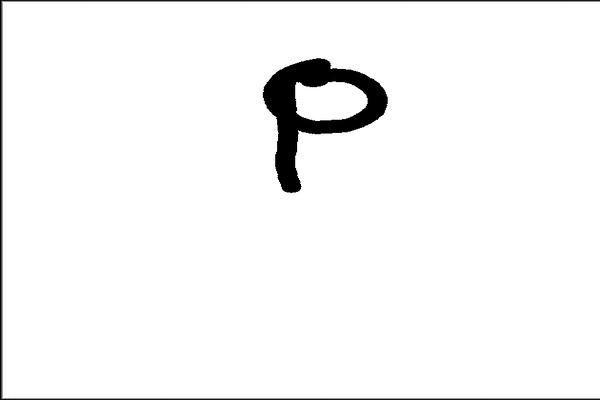P: (247, 50, 401, 205)
